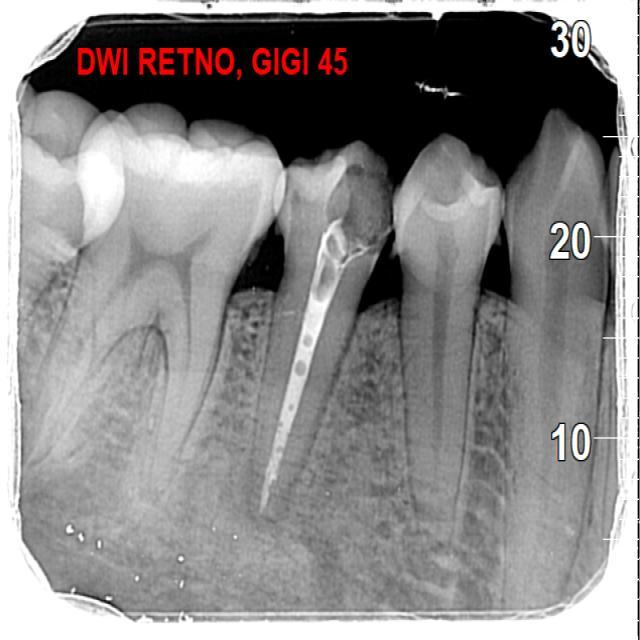individual-tooth-8tto: (10, 98, 297, 503), (249, 145, 407, 524), (506, 116, 613, 607), (388, 142, 507, 539)
